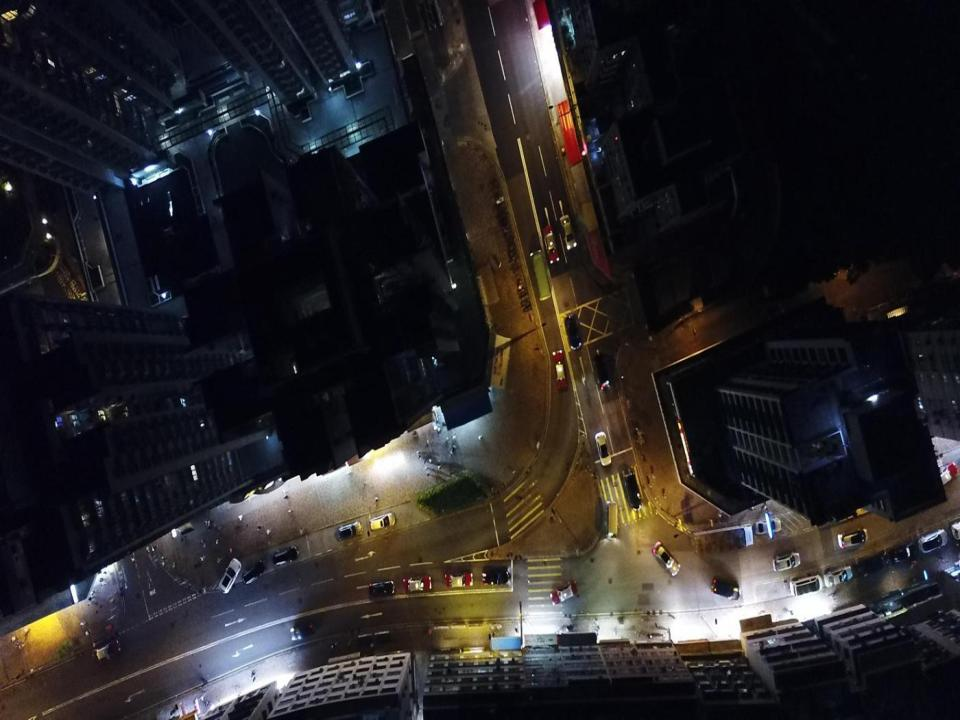bus: (529, 248, 552, 300), (606, 503, 618, 540)
car: (652, 540, 680, 577), (219, 557, 241, 595), (857, 552, 889, 577), (918, 528, 948, 554), (241, 558, 268, 586), (623, 472, 642, 511), (92, 638, 122, 662), (542, 225, 560, 264), (550, 579, 578, 604), (837, 527, 869, 548), (711, 578, 741, 600), (552, 349, 568, 390), (594, 430, 612, 466), (559, 214, 577, 250), (935, 461, 958, 488), (824, 566, 852, 588), (565, 314, 582, 350), (594, 352, 610, 390), (890, 542, 917, 564), (772, 551, 800, 572), (273, 545, 300, 566), (369, 511, 396, 531), (403, 575, 432, 593), (338, 521, 364, 541), (754, 516, 781, 535), (369, 579, 395, 598), (444, 571, 473, 588), (482, 568, 509, 585), (293, 620, 315, 640)
truck: (693, 524, 754, 554)
van: (789, 574, 823, 598)
